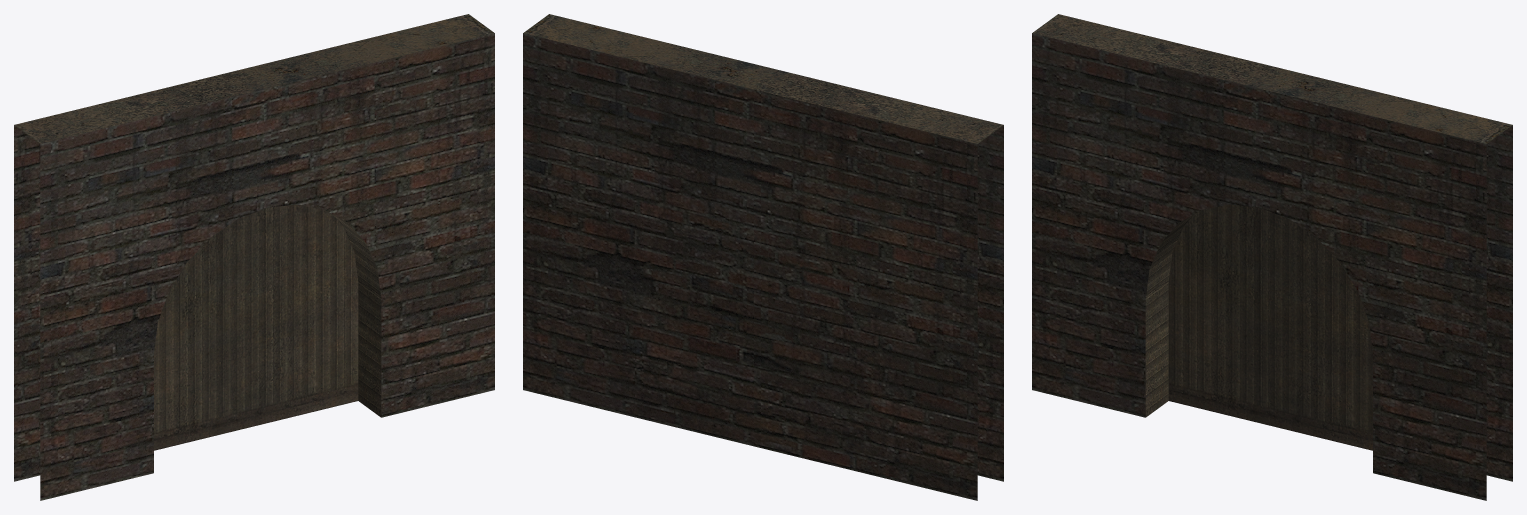
The model's file is wall_hs_15.dae.
The picture shows the model from 3 angles, left to right: view 1: azimuth 30°, elevation 25°; view 2: azimuth 150°, elevation 25°; view 3: azimuth 330°, elevation 25°; orthographic projection.
Parts seen in each view (by area): view 1: wall_hs_15; view 2: wall_hs_15; view 3: wall_hs_15.
Part boxes in pixels (x1,y1,x2,y2): wall_hs_15: [14, 14, 494, 500]; wall_hs_15: [523, 14, 1003, 500]; wall_hs_15: [1032, 14, 1512, 500].
Bounding box in the file's own units: 4 × 0.4 × 3.
Materials: 3 (3 with a texture image).
